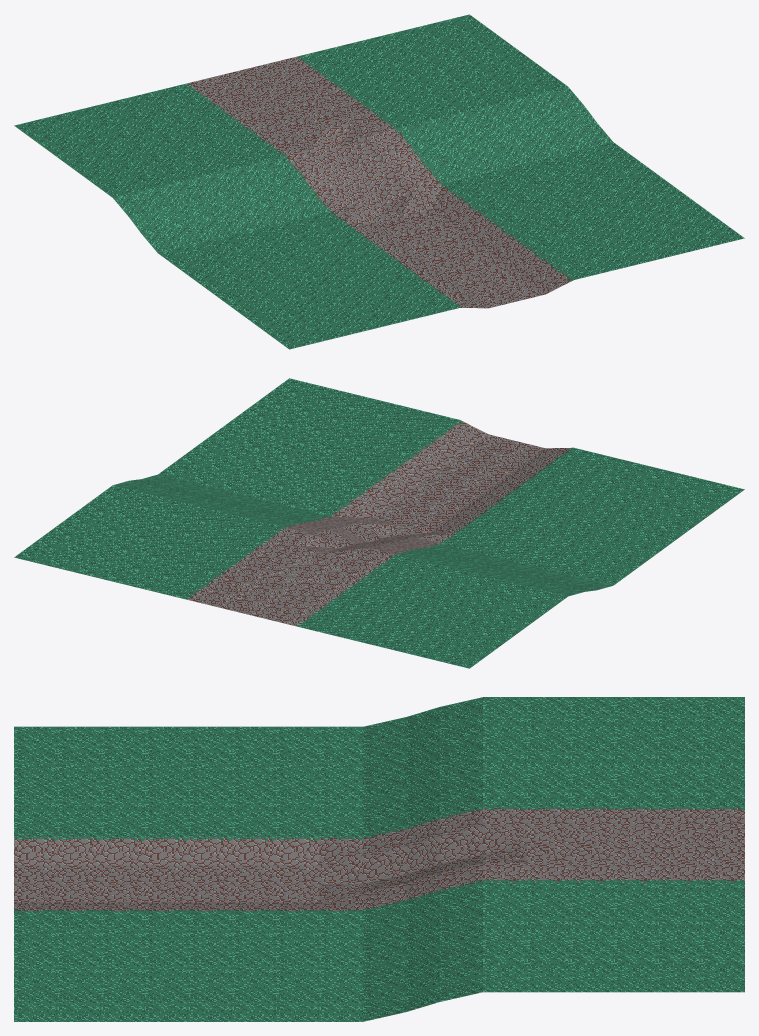
The model's file is TownSceneBackground.gltf.
3 views of the same model, one above another, from view 1: azimuth 30°, elevation 25°; view 2: azimuth 150°, elevation 25°; view 3: azimuth 270°, elevation 25° (orthographic). The views are drawn at different scales.
Size of the model in its own units: 32 by 2 by 33.5.
Materials: 1 (1 with a texture image).
